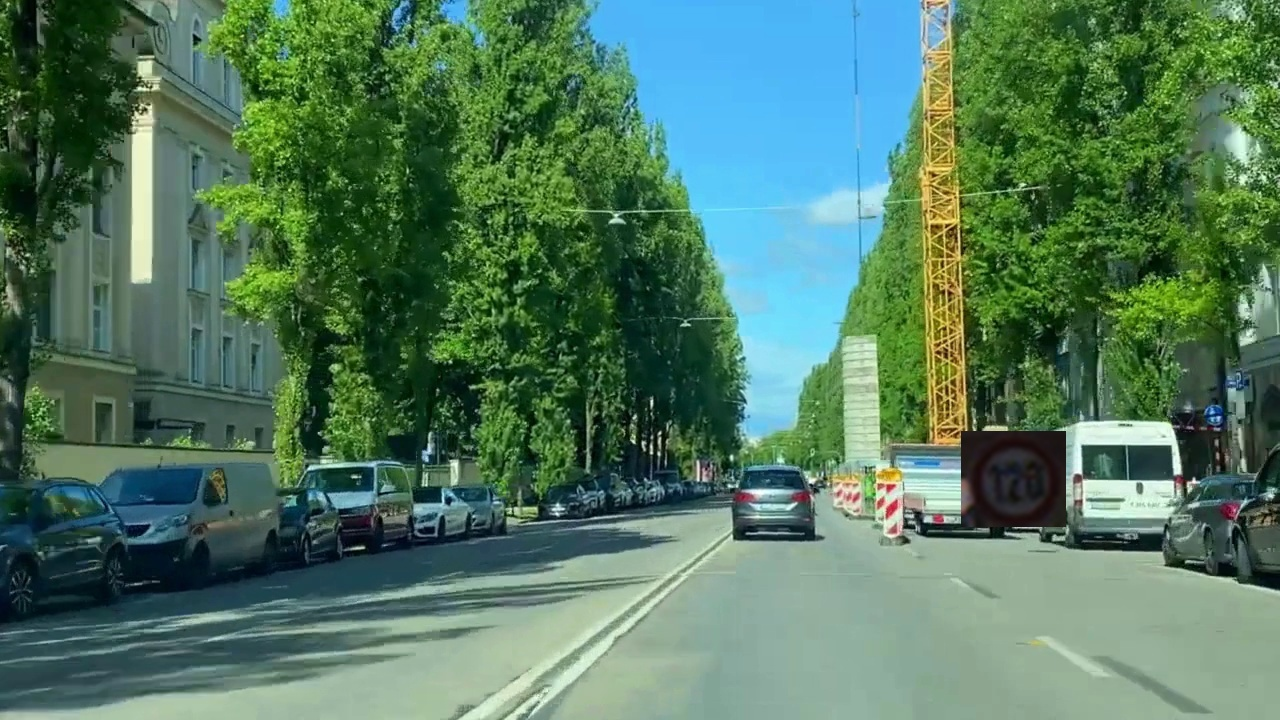Speed 120: (961, 431, 1066, 527)
